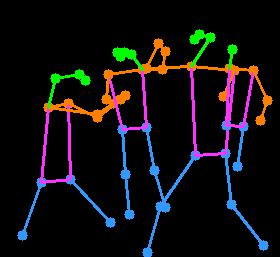normal: (98, 40, 180, 225)
